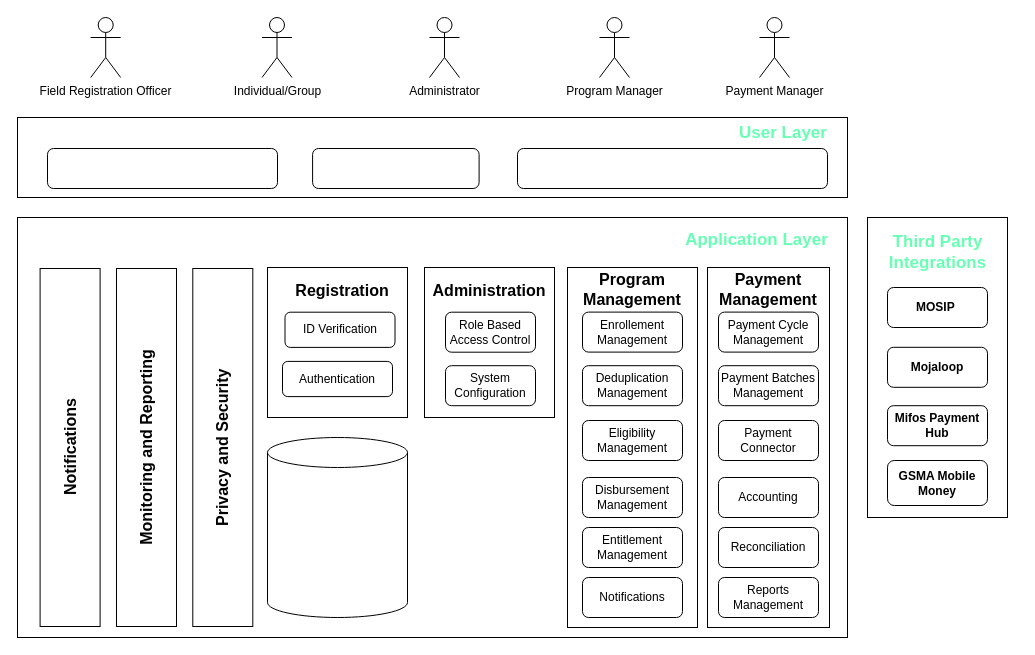
The diagram is 1035 pixels wide and 655 high, and some of its shapes have lost their labels. Here are the shapes that lost their labels. From the top down, the centre of each, then its label:
the point at 162,168: Mobile Registration App
the point at 395,168: Self-Service Portal
the point at 672,168: OpenG2P Portal
the point at 337,527: Registry
